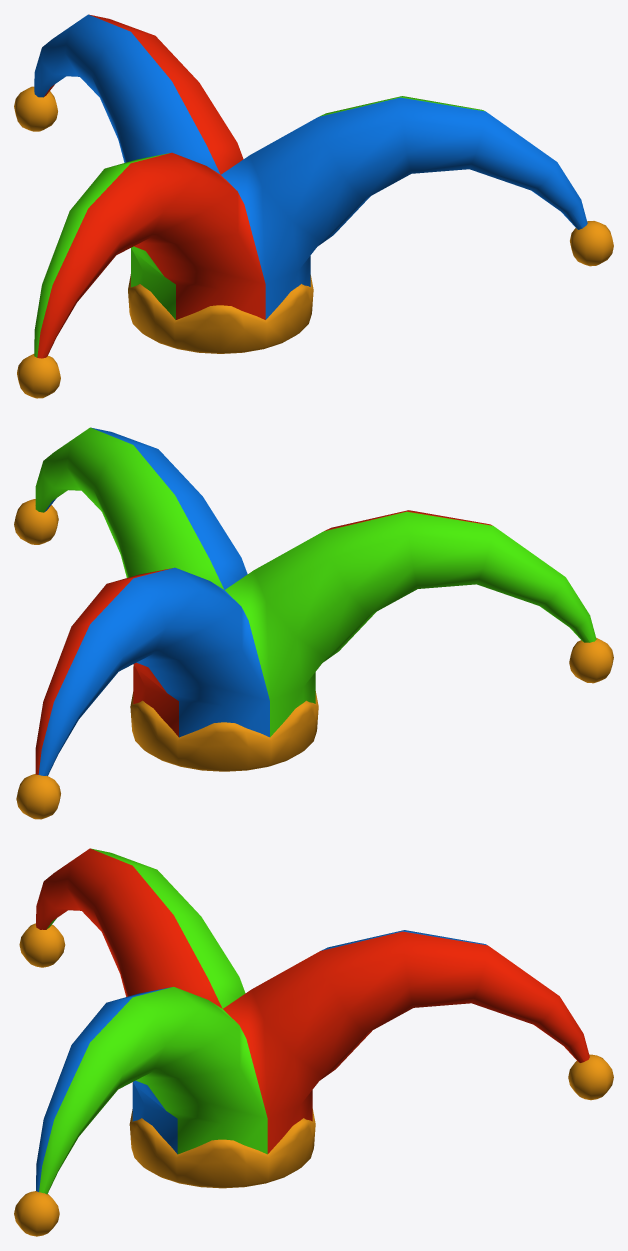
File: Clown Hat.fbx
3 views of the same model, one above another, from view 1: azimuth 30°, elevation 25°; view 2: azimuth 150°, elevation 25°; view 3: azimuth 270°, elevation 25° (orthographic).
Parts seen in each view (by area): view 1: NurbsPath.002; view 2: NurbsPath.002; view 3: NurbsPath.002.
Part boxes in pixels (x1,y1,x2,y2): NurbsPath.002: (14, 14, 613, 398); NurbsPath.002: (14, 427, 613, 819); NurbsPath.002: (14, 848, 613, 1236).
Bounding box in the file's own units: 1110 × 396 × 977.
